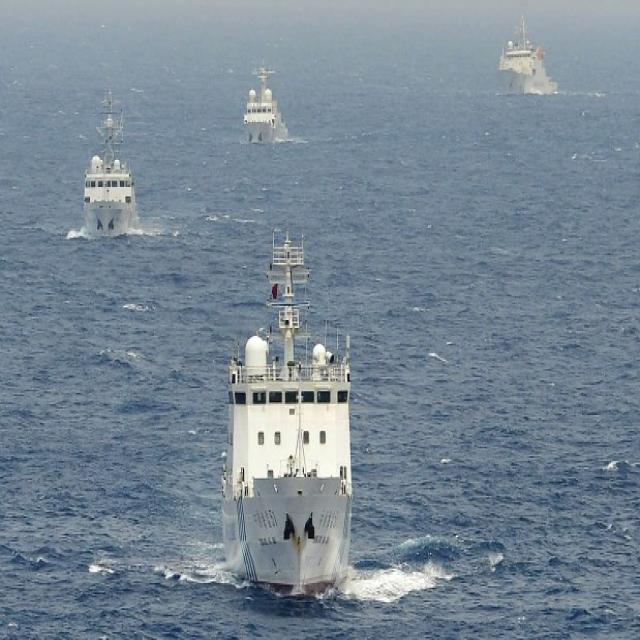navalvessels: (220, 229, 360, 589), (75, 92, 155, 238), (489, 18, 568, 106), (244, 71, 288, 141)
